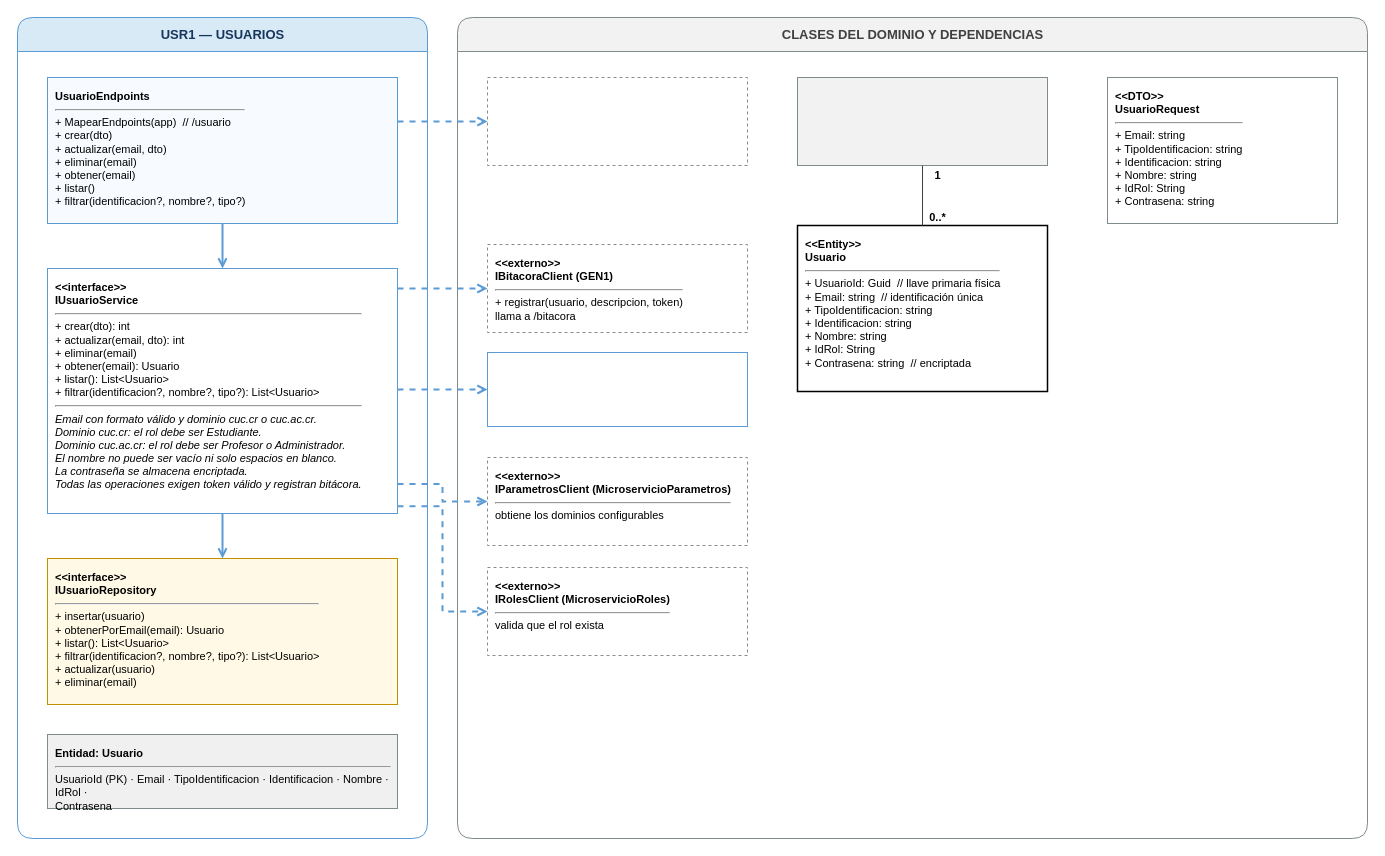
Some shapes in this 1385 by 856 pixel diagram are drawn without their labels. Each missing label, with the centre of its shape:
<<Entity>> Rol (USR2) + IdRol: String + Nombre: string: the point at 922,121
<<externo>> ITokenValidator (USR5) + validar(token): bool llama a /validate: the point at 617,121
<<interface>> IPasswordHasher + encriptar(contrasena): string: the point at 617,389
